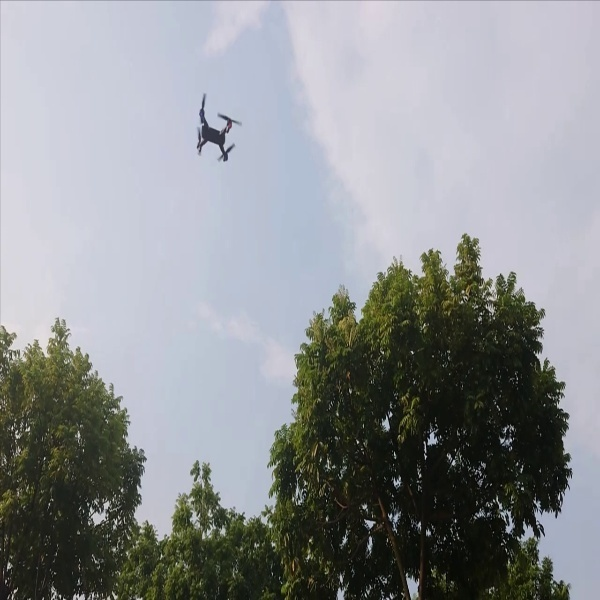drone: (187, 89, 243, 168)
